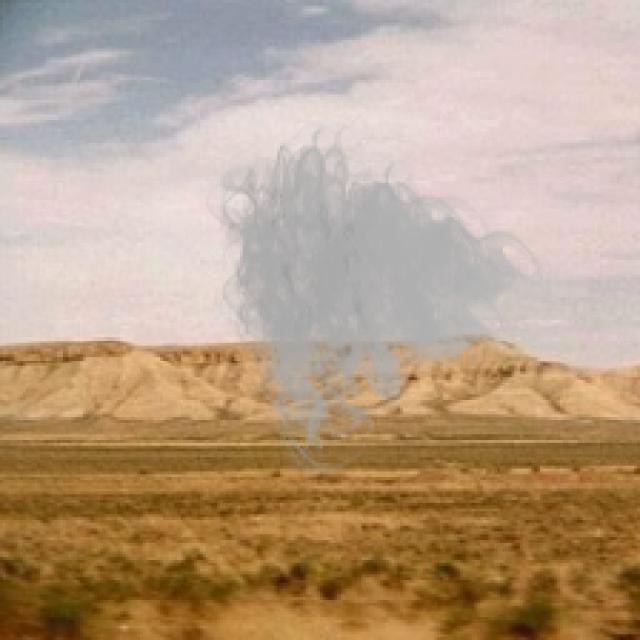Smoke: (197, 111, 552, 483)
